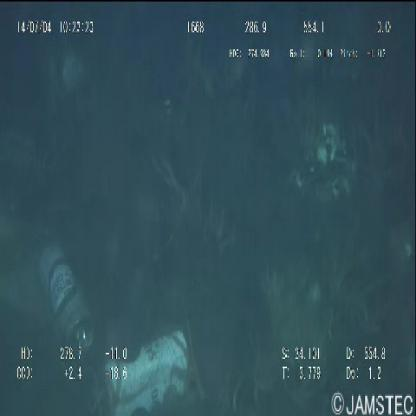Rác: (106, 330, 190, 414)
